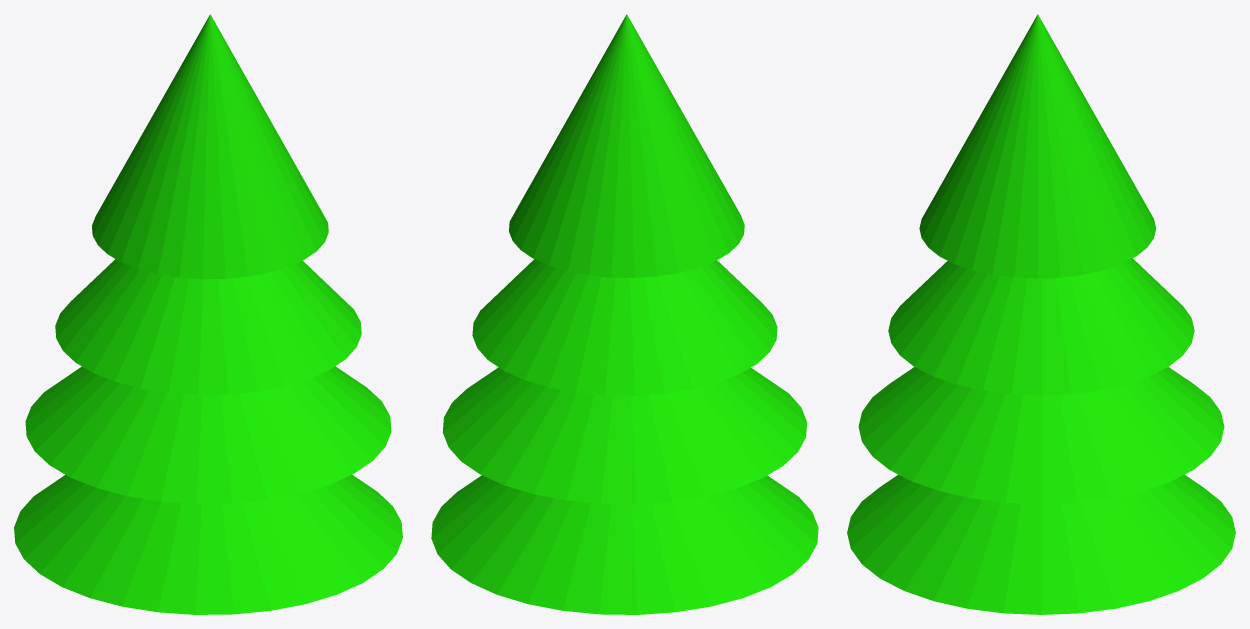
The model's file is tree01.fbx.
3 renders of one model, left to right at view 1: azimuth 30°, elevation 25°; view 2: azimuth 150°, elevation 25°; view 3: azimuth 270°, elevation 25°, orthographic.
Parts seen in each view (by area): view 1: Cone.003; view 2: Cone.003; view 3: Cone.003.
Boxes of the visible parts, x1,y1,x2,y2 form: Cone.003: (14,14,402,614); Cone.003: (431,14,818,614); Cone.003: (847,14,1235,614).
Bounding box in the file's own units: 328 × 534 × 328.
